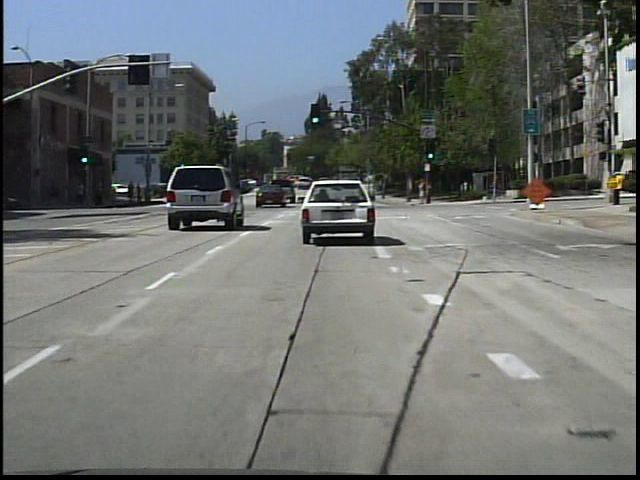person: (414, 174, 430, 209)
